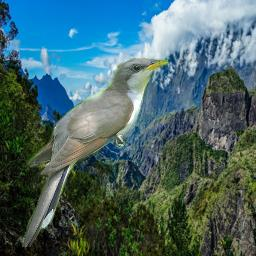Cuckoo: (22, 58, 168, 247)
